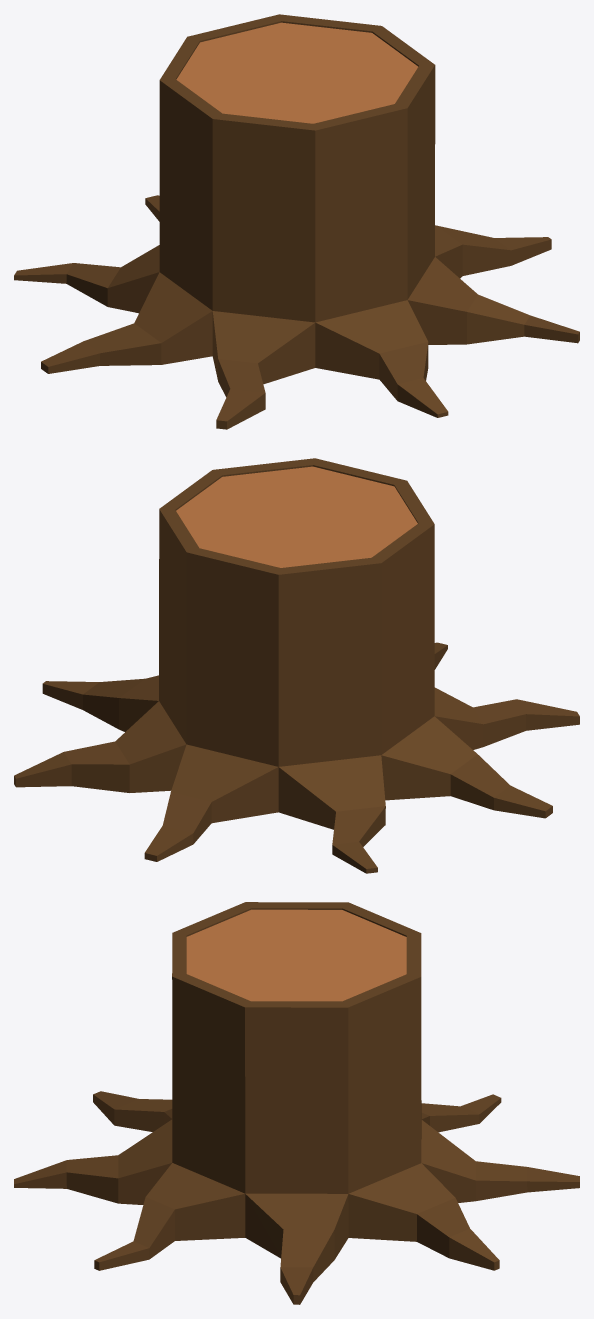
Rendered from treeh2.glb.
3 views of the same model, one above another, from view 1: azimuth 30°, elevation 25°; view 2: azimuth 150°, elevation 25°; view 3: azimuth 270°, elevation 25° (orthographic). The views are drawn at different scales.
Visible parts, largest first — view 1: Cylinder.003; view 2: Cylinder.003; view 3: Cylinder.003.
Part boxes in pixels (<box>): Cylinder.003: <box>14,14,579,429</box>; Cylinder.003: <box>14,458,579,873</box>; Cylinder.003: <box>14,902,579,1304</box>.
Size of the model in its own units: 2.66 by 1.2 by 2.66.
